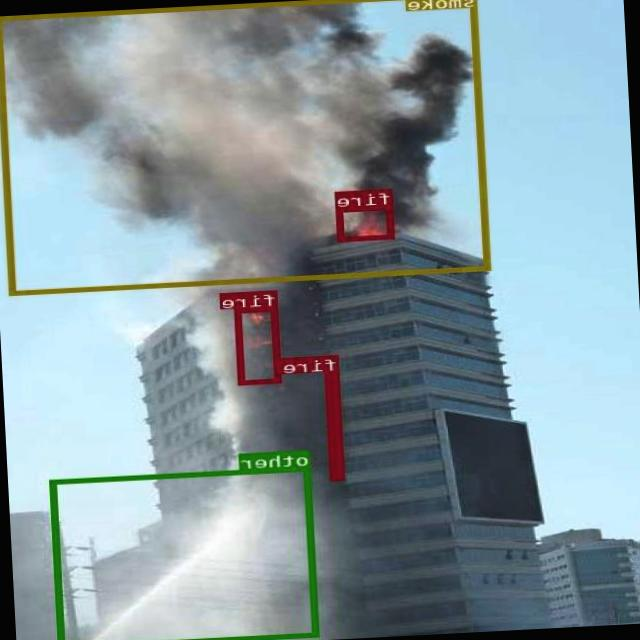fire: (237, 306, 284, 384), (326, 370, 346, 480), (337, 204, 396, 240)
smoke: (0, 0, 491, 295)
